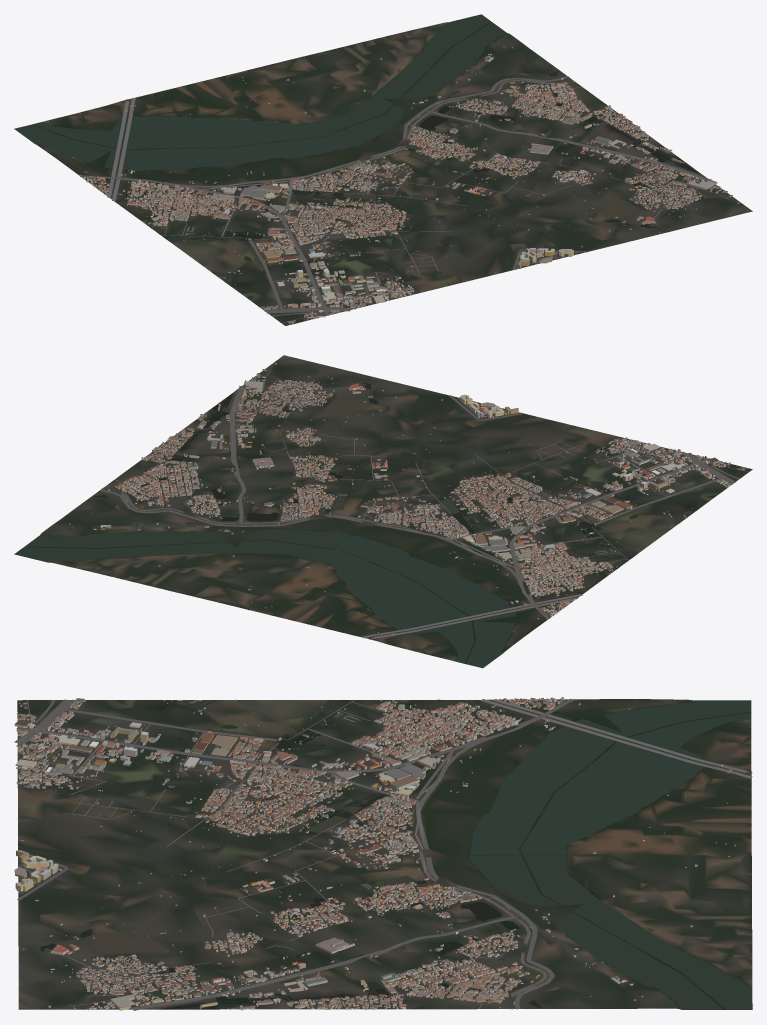
3 renders of one model, top to bottom at view 1: azimuth 30°, elevation 25°; view 2: azimuth 150°, elevation 25°; view 3: azimuth 270°, elevation 25°, orthographic. The views are drawn at different scales.
Parts seen in each view (by area): view 1: ground, buildings, water, roads; view 2: ground, buildings, water, roads; view 3: ground, buildings, water, roads.
Boxes of the visible parts, left/top/right/bottom form: ground: left=14, top=21, right=752, bottom=325; buildings: left=73, top=46, right=739, bottom=324; water: left=14, top=14, right=714, bottom=285; roads: left=80, top=76, right=728, bottom=323; ground: left=14, top=355, right=752, bottom=668; buildings: left=69, top=363, right=747, bottom=635; water: left=14, top=378, right=697, bottom=667; roads: left=100, top=370, right=748, bottom=639; ground: left=17, top=699, right=752, bottom=1009; buildings: left=14, top=697, right=735, bottom=1010; water: left=40, top=700, right=752, bottom=1009; roads: left=14, top=698, right=752, bottom=1010.
Size of the model in its own units: 2823 by 39.47 by 2824.
